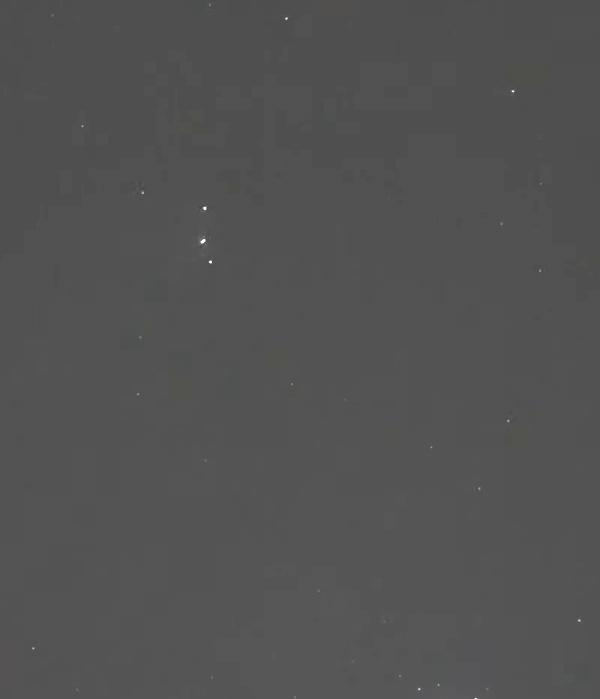Plane: (187, 197, 231, 282)
